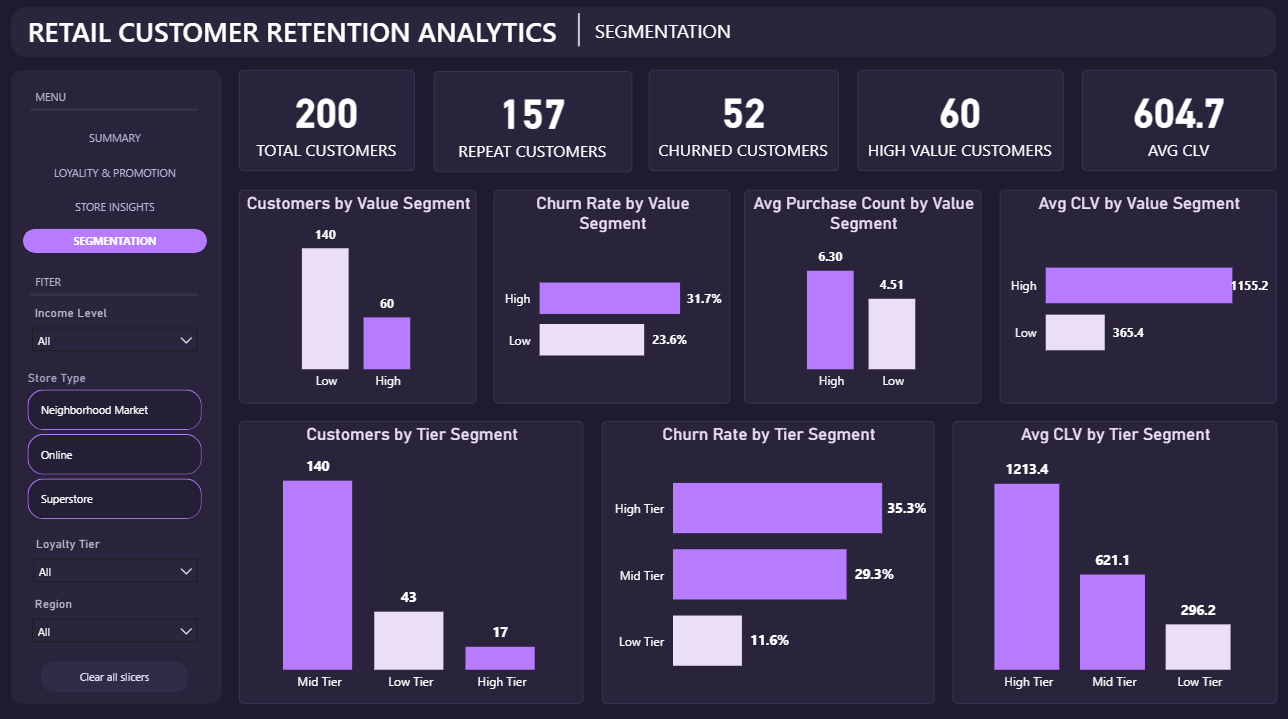

What the dashboard file says about the page in this screenshot:
{"tool":"powerbi","page":{"name":"SEGMENTATION ","canvas":[1280,720],"ordinal":3},"visuals":[{"type":"card","title":"CHURN RATE","fields":{"Values":["All_Measures (DAX).Total Churned Customers"]},"box":[645,73.8,187.6,100.1],"z":0},{"type":"card","fields":{"Values":["B Extra Measures(DAX) for Deep Analysis.High Value Customers"]},"box":[850.5,73.8,203.4,100.1],"z":1000},{"type":"card","fields":{"Values":["All_Measures (DAX).Total Customers"]},"box":[240.3,73.8,173.9,100.1],"z":2000},{"type":"card","fields":{"Values":["B Extra Measures(DAX) for Deep Analysis.Repeat Customers (Purchase based Segment)"]},"box":[432.1,74.8,196,100.1],"z":3000},{"type":"shape","box":[14.9,73.7,208.2,625.8],"z":4000},{"type":"advancedSlicerVisual","fields":{"Values":["Store_Locations.Store_Type"]},"box":[26.7,370.5,182.6,152.7],"z":5000},{"type":"slicer","fields":{"Values":["Customer_Demographics.Region"]},"box":[25.6,589.5,183.7,57.7],"z":6000},{"type":"slicer","fields":{"Values":["Loyalty_Program.Loyalty_Tier"]},"box":[26.7,530.7,182.6,58.7],"z":7000},{"type":"slicer","fields":{"Values":["Customer_Demographics.Income_Level"]},"box":[25.6,302.2,183.7,57.7],"z":8000},{"type":"actionButton","box":[44.8,657.8,145.2,29.9],"z":9000},{"type":"pageNavigator","box":[26.7,129.2,182.6,126],"z":10000},{"type":"shape","box":[34.2,289.4,165.5,12.8],"z":11000},{"type":"shape","box":[34.2,106.8,165.5,12.8],"z":12000},{"type":"textbox","box":[34.2,85.4,50.2,27.8],"z":13000},{"type":"textbox","box":[34.2,268,38.4,27.8],"z":14000},{"type":"shape","box":[14.9,11.7,1249.4,50.2],"z":15000},{"type":"shape","box":[569.1,18.2,12.2,32.8],"z":16000},{"type":"textbox","box":[26.8,12.2,542.3,46.2],"z":17000},{"type":"textbox","box":[586.2,17.1,152.7,37.4],"z":18000},{"type":"clusteredBarChart","title":"Churn Rate by Value Segment","fields":{"Category":["Customer_Demographics.Customer Segment(CLV)"],"Y":["All_Measures (DAX).Customer Churn Rate (%)"]},"box":[491.1,191.8,234,210.8],"z":19000},{"type":"clusteredColumnChart","title":"Avg Purchase Count by Value Segment","fields":{"Category":["Customer_Demographics.Customer Segment(CLV)"],"Y":["Avg(Customer_Demographics.Purchase Count)"]},"box":[738.7,191.8,235,210.8],"z":20000},{"type":"card","fields":{"Values":["Avg(Customer_Demographics.CLV)"]},"box":[1072.8,73.8,191.8,100.1],"z":21000},{"type":"clusteredBarChart","title":"Avg CLV by Value Segment","fields":{"Category":["Customer_Demographics.Customer Segment(CLV)"],"Y":["Avg(Customer_Demographics.CLV)"]},"box":[990.6,191.8,274,210.8],"z":22000},{"type":"clusteredColumnChart","title":"Customers by Tier Segment","fields":{"Category":["Customer_Demographics.Customer Segment"],"Y":["CountNonNull(Customer_Demographics.Customer_ID)"]},"box":[240.3,420.5,340.4,279.3],"z":23000},{"type":"clusteredColumnChart","title":"Avg CLV by Tier Segment","fields":{"Y":["Avg(Customer_Demographics.CLV)"],"Category":["Customer_Demographics.Customer Segment"]},"box":[944.2,420.5,320.4,279.3],"z":24000},{"type":"clusteredBarChart","title":"Churn Rate by Tier Segment","fields":{"Category":["Customer_Demographics.Customer Segment"],"Y":["All_Measures (DAX).Customer Churn Rate (%)"]},"box":[597.5,420.5,328.8,279.3],"z":25000},{"type":"clusteredColumnChart","title":"Customers by Value Segment","fields":{"Category":["Customer_Demographics.Customer Segment(CLV)"],"Y":["CountNonNull(Customer_Demographics.Customer_ID)"]},"box":[240.3,191.8,235,210.8],"z":26000}]}

Visuals, with their boxes in screenshot pixels (x1, y1, x2, y2), scaled from the page's 1280x720 canvas onto the 1288x719 screenshot:
"CHURN RATE" card: {"x1": 649, "y1": 74, "x2": 838, "y2": 174}
card - B Extra Measures(DAX) for Deep Analysis.High Value Customers: {"x1": 856, "y1": 74, "x2": 1060, "y2": 174}
card - All_Measures (DAX).Total Customers: {"x1": 242, "y1": 74, "x2": 417, "y2": 174}
card - B Extra Measures(DAX) for Deep Analysis.Repeat Customers (Purchase based Segment): {"x1": 435, "y1": 75, "x2": 632, "y2": 175}
shape: {"x1": 15, "y1": 74, "x2": 224, "y2": 699}
advancedSlicerVisual - Store_Locations.Store_Type: {"x1": 27, "y1": 370, "x2": 211, "y2": 522}
slicer - Customer_Demographics.Region: {"x1": 26, "y1": 589, "x2": 211, "y2": 646}
slicer - Loyalty_Program.Loyalty_Tier: {"x1": 27, "y1": 530, "x2": 211, "y2": 589}
slicer - Customer_Demographics.Income_Level: {"x1": 26, "y1": 302, "x2": 211, "y2": 359}
actionButton: {"x1": 45, "y1": 657, "x2": 191, "y2": 687}
pageNavigator: {"x1": 27, "y1": 129, "x2": 211, "y2": 255}
shape: {"x1": 34, "y1": 289, "x2": 201, "y2": 302}
shape: {"x1": 34, "y1": 107, "x2": 201, "y2": 119}
textbox: {"x1": 34, "y1": 85, "x2": 85, "y2": 113}
textbox: {"x1": 34, "y1": 268, "x2": 73, "y2": 295}
shape: {"x1": 15, "y1": 12, "x2": 1272, "y2": 62}
shape: {"x1": 573, "y1": 18, "x2": 585, "y2": 51}
textbox: {"x1": 27, "y1": 12, "x2": 573, "y2": 58}
textbox: {"x1": 590, "y1": 17, "x2": 744, "y2": 54}
"Churn Rate by Value Segment" clusteredBarChart: {"x1": 494, "y1": 192, "x2": 730, "y2": 402}
"Avg Purchase Count by Value Segment" clusteredColumnChart: {"x1": 743, "y1": 192, "x2": 980, "y2": 402}
card - Avg(Customer_Demographics.CLV): {"x1": 1080, "y1": 74, "x2": 1273, "y2": 174}
"Avg CLV by Value Segment" clusteredBarChart: {"x1": 997, "y1": 192, "x2": 1273, "y2": 402}
"Customers by Tier Segment" clusteredColumnChart: {"x1": 242, "y1": 420, "x2": 584, "y2": 699}
"Avg CLV by Tier Segment" clusteredColumnChart: {"x1": 950, "y1": 420, "x2": 1273, "y2": 699}
"Churn Rate by Tier Segment" clusteredBarChart: {"x1": 601, "y1": 420, "x2": 932, "y2": 699}
"Customers by Value Segment" clusteredColumnChart: {"x1": 242, "y1": 192, "x2": 478, "y2": 402}
